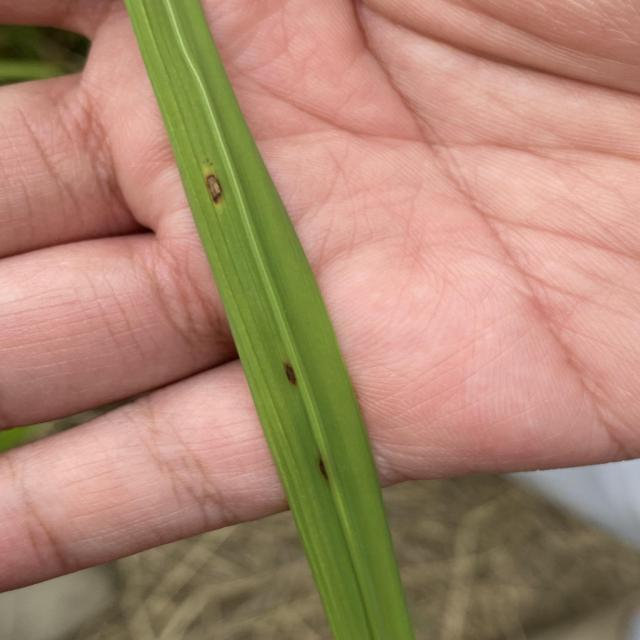Dom nau: (202, 173, 225, 208), (281, 360, 303, 388), (316, 452, 330, 484)
